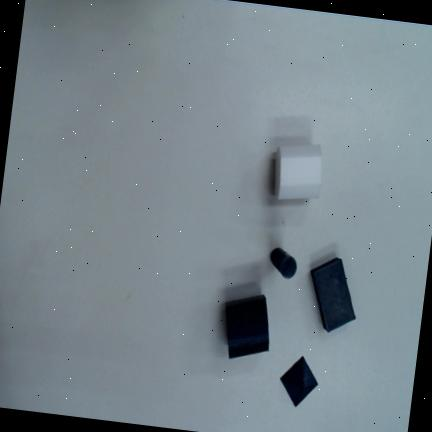Cilindro: (269, 247, 296, 278)
Paralelepipedo: (309, 258, 355, 332)
Piramide: (279, 356, 319, 407)
Prisma_hexagonal: (225, 293, 269, 359), (274, 145, 322, 199)
